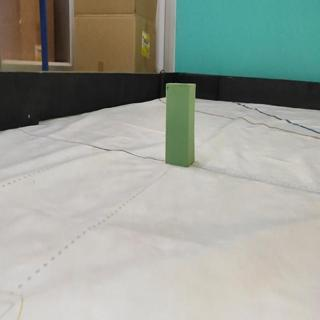greenbox: (165, 82, 196, 165)
